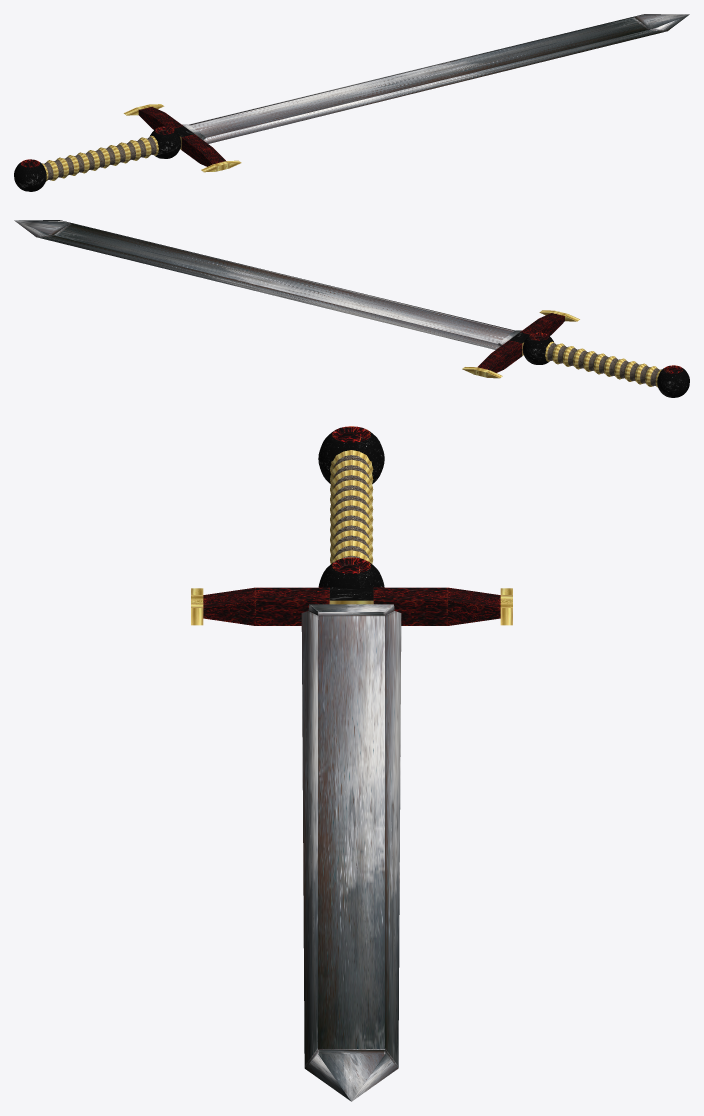
Rendered from sword.fbx.
The picture shows the model from 3 angles, top to bottom: view 1: azimuth 30°, elevation 25°; view 2: azimuth 150°, elevation 25°; view 3: azimuth 270°, elevation 25°; orthographic projection. The views are drawn at different scales.
Parts seen in each view (by area): view 1: polySurface10; view 2: polySurface10; view 3: polySurface10.
Boxes of the visible parts, x1,y1,x2,y2 form: polySurface10: [14, 14, 689, 191]; polySurface10: [14, 220, 689, 397]; polySurface10: [191, 426, 512, 1101].
Size of the model in its own units: 25.81 by 0.9157 by 5.33.
6 materials, 5 textured.
